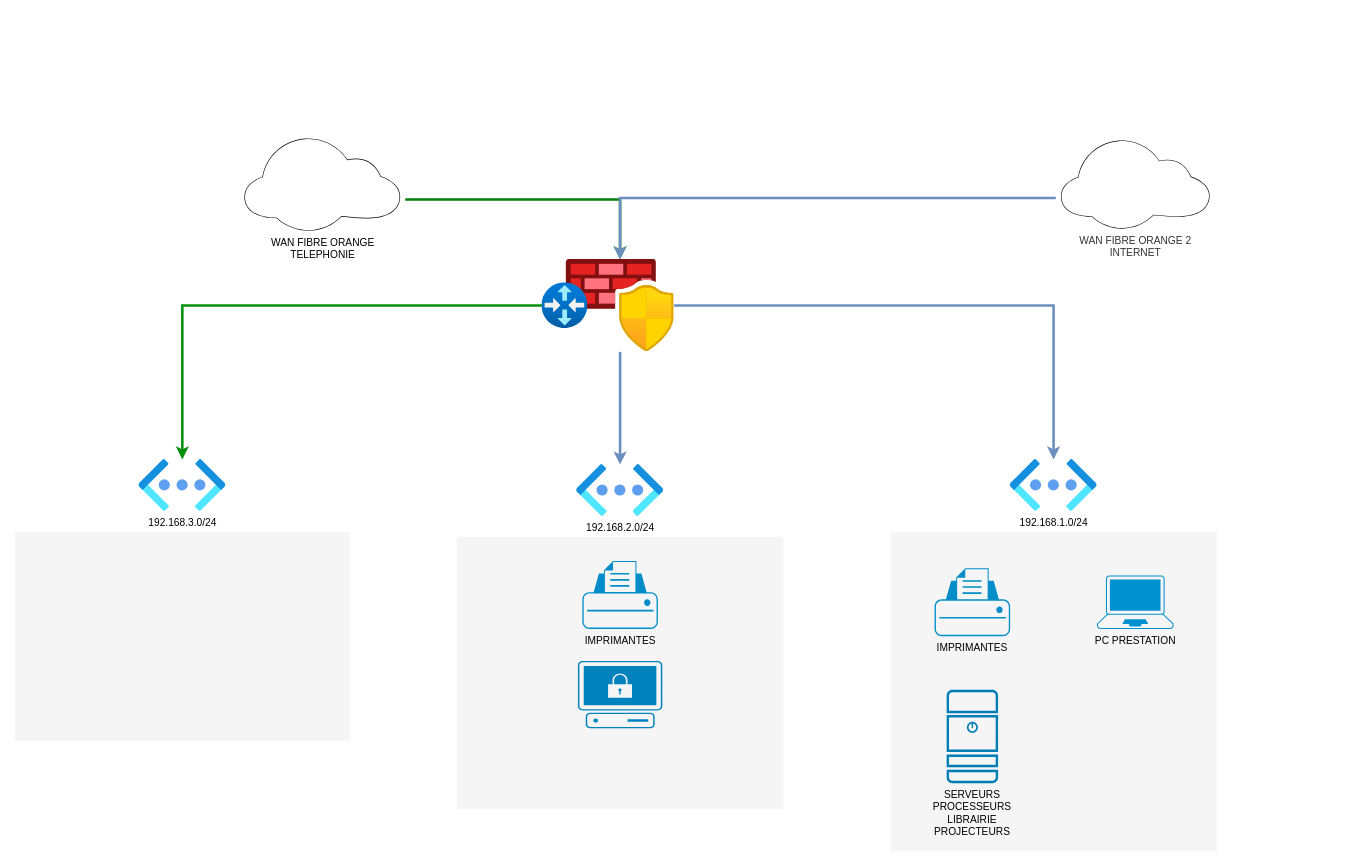
Some shapes in this 1349 by 865 pixel diagram are drawn without their labels. The box of each missing label's shape, as (x1, y1, x2, y2) in pixels:
FORTIGATE 192.168.0.1: (566, 259, 674, 351)
PC COMPTA PC COLLABORATEURS: (577, 660, 662, 728)
PRODUCTION: (890, 532, 1216, 851)
TÉLÉPHONIE: (14, 532, 349, 740)
